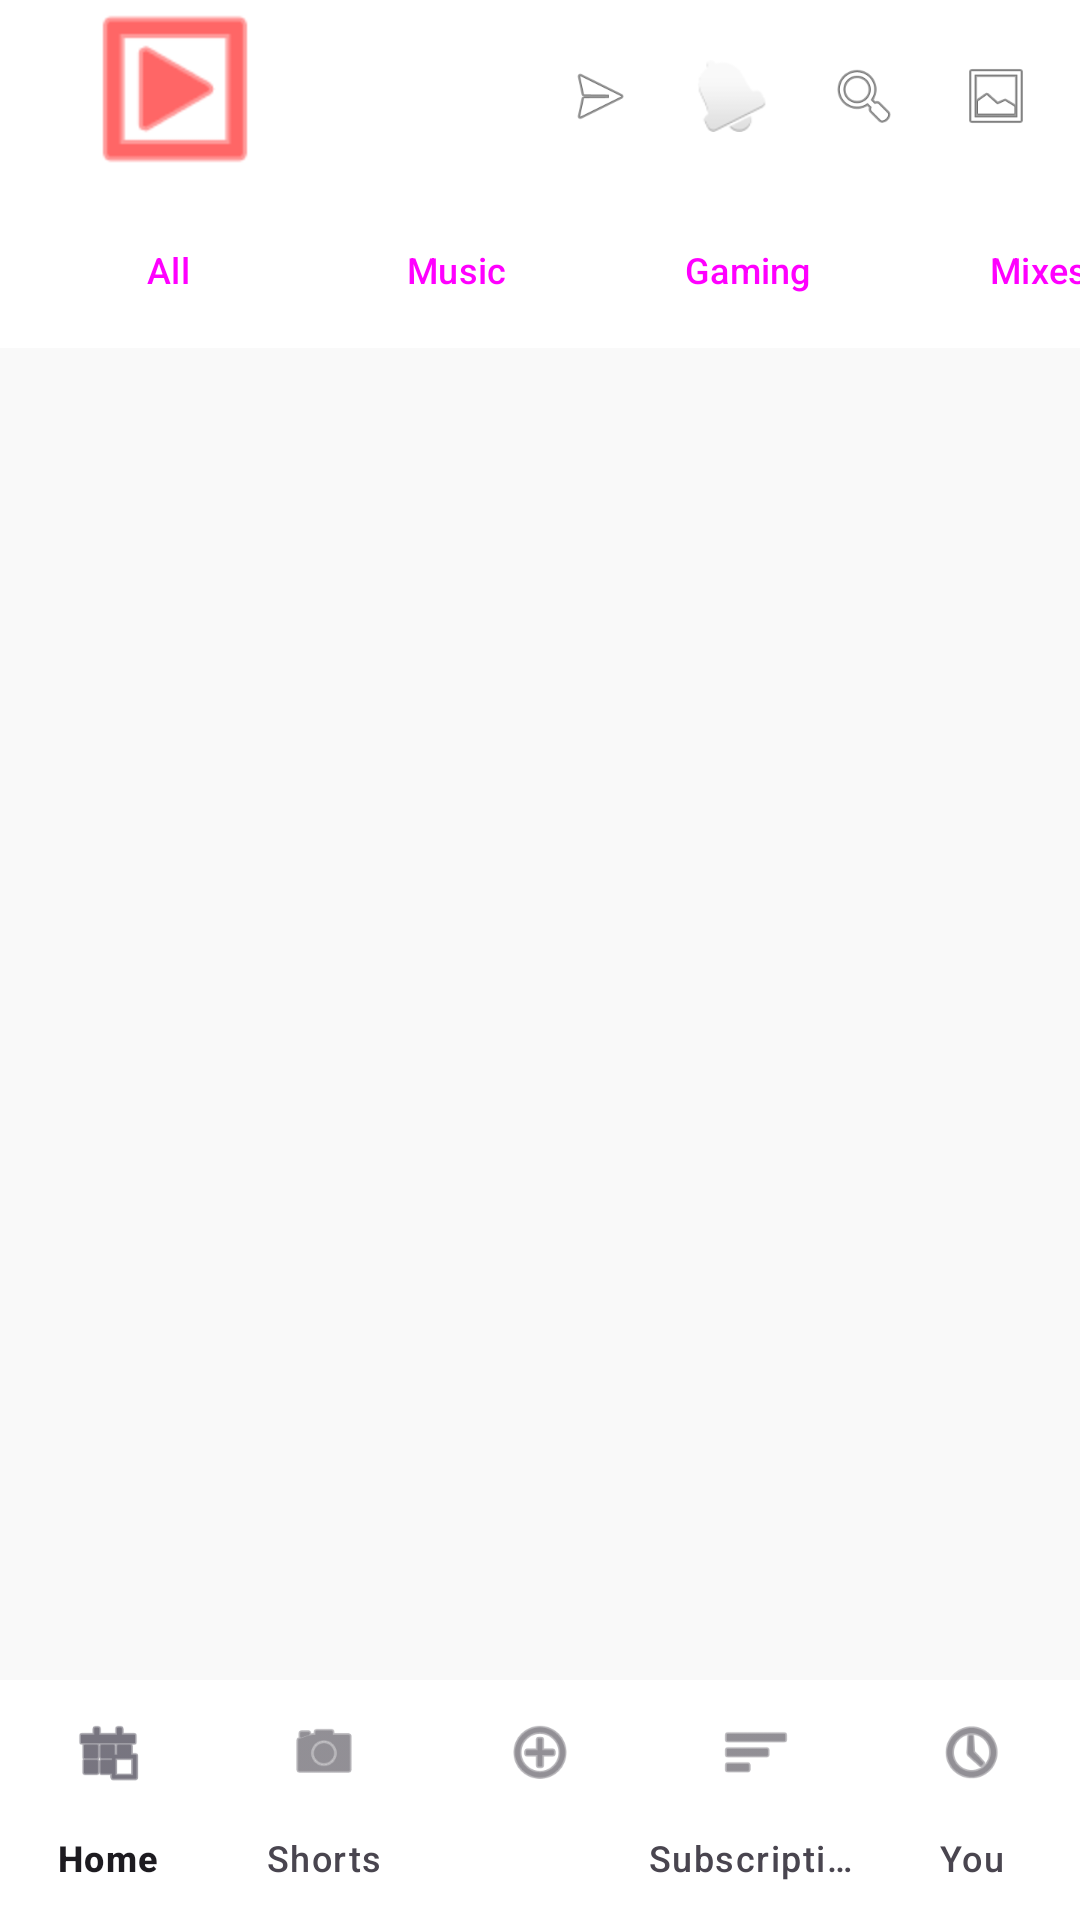

Icon bounding boxes for this 1080 × 1920 phone screenshot, format (x1, y1, x2, y2):
gallery: (969, 69, 1023, 123)
search: (837, 70, 891, 123)
send: (577, 74, 624, 119)
slideshow: (103, 16, 247, 162)
